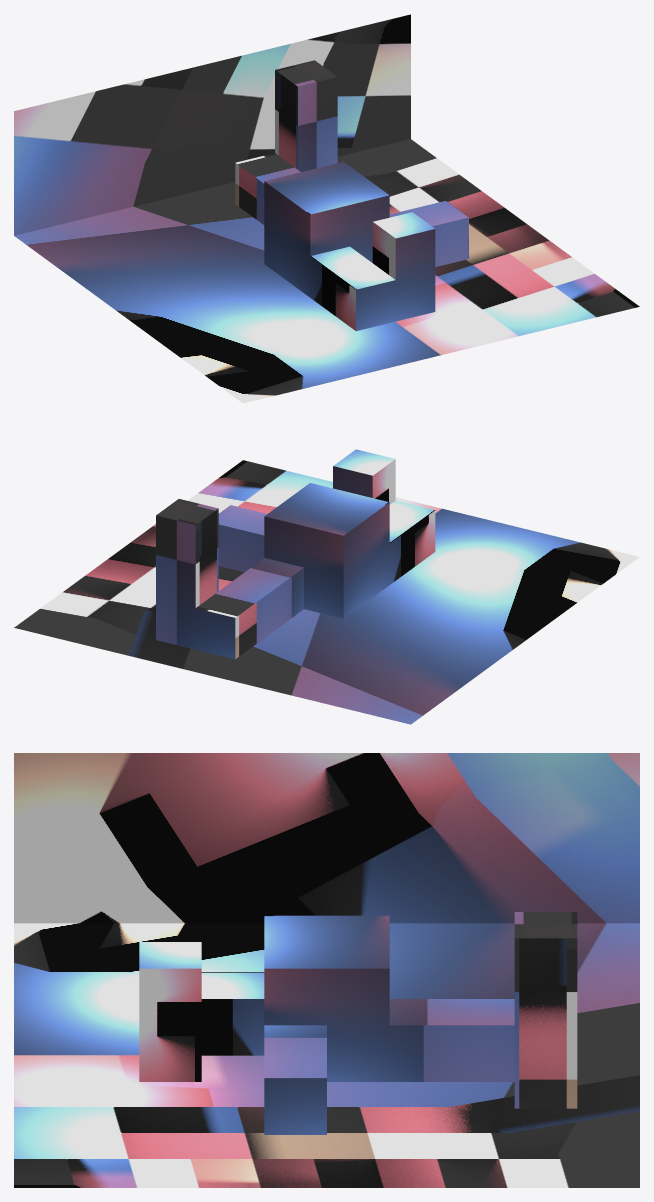
Rendered from lightbakingtest.gltf.
3 renders of one model, top to bottom at view 1: azimuth 30°, elevation 25°; view 2: azimuth 150°, elevation 25°; view 3: azimuth 270°, elevation 25°, orthographic. The views are drawn at different scales.
Parts seen in each view (by area): view 1: Cube; view 2: Cube; view 3: Cube.
Part boxes in pixels (box(x1,y1,x2,y2)): Cube: box(14, 14, 639, 403); Cube: box(14, 449, 639, 724); Cube: box(14, 753, 639, 1187).
Size of the model in its own units: 10 by 3 by 10.
1 material, 1 textured.
